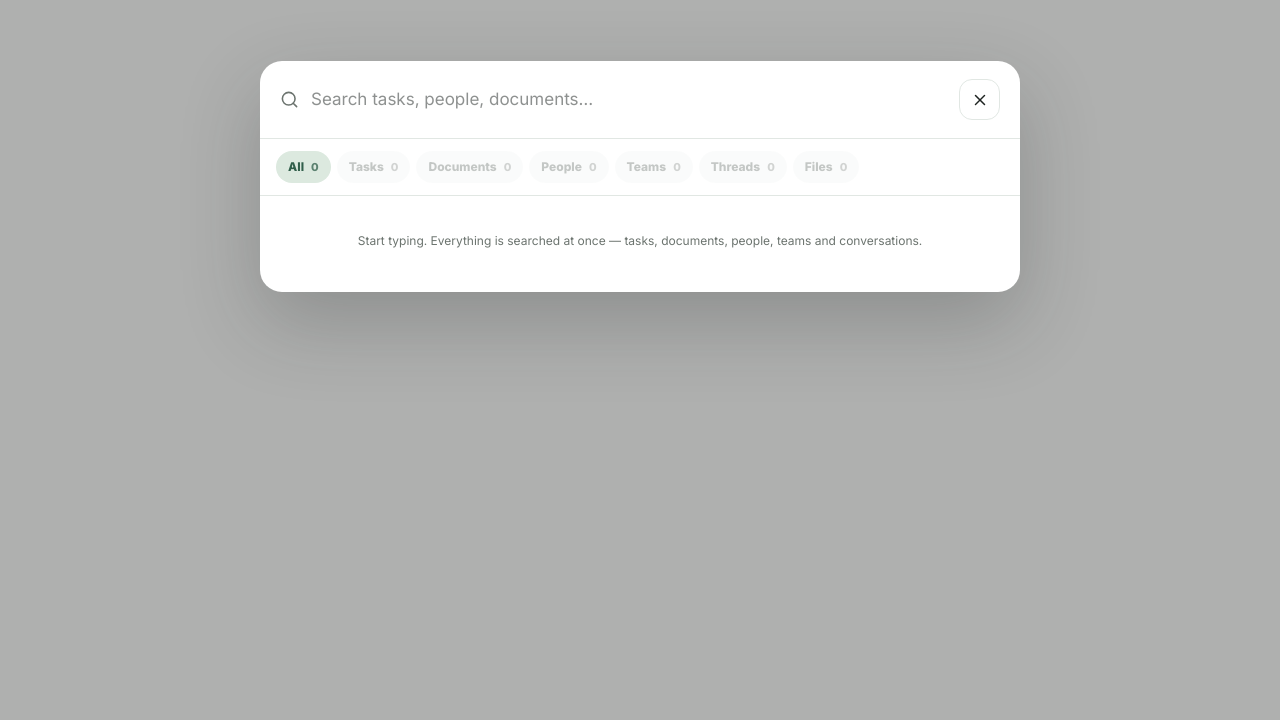
SearchOverlay › filters to one category when its tab is chosen
Type "a" into the field named "Search jarins" at (629, 100), box [311,87,947,112]
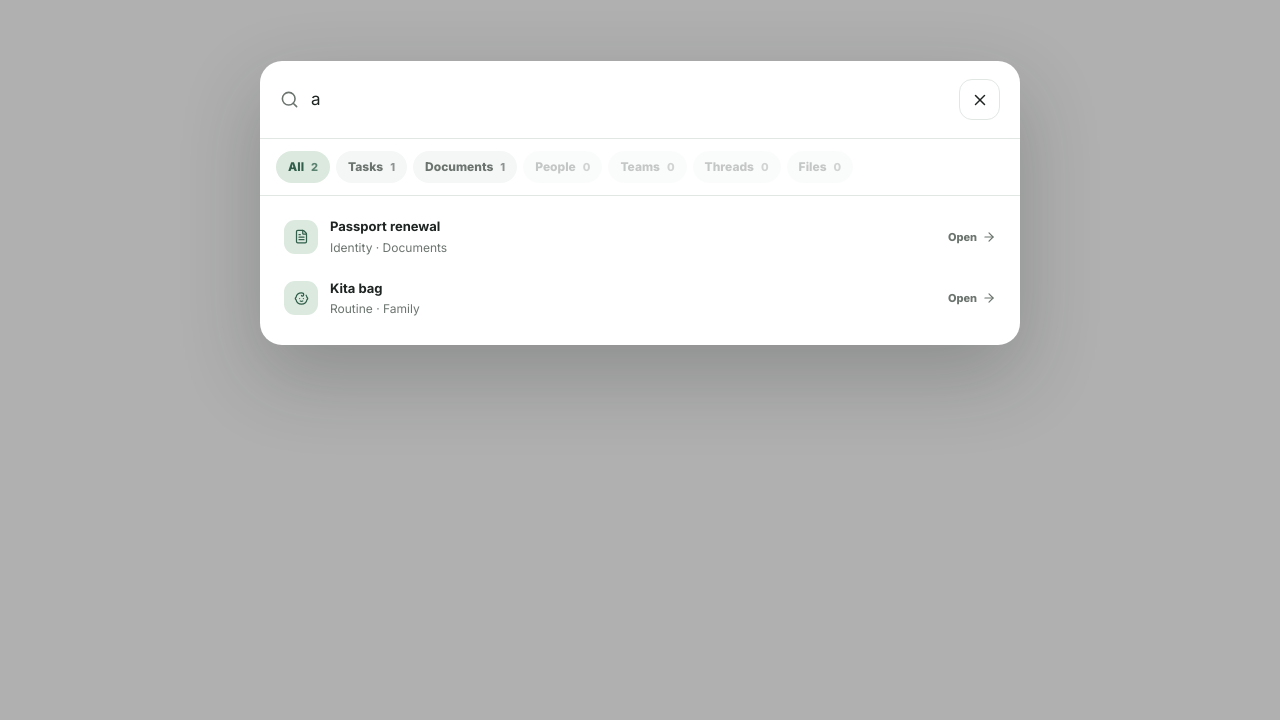
Expected: the text "Kita bag" is shown, [330,280,382,296]
Expected: the text "Passport renewal" is shown, [330,218,440,234]
Click the button "Tasks 1" at (372, 167), box [336,151,407,183]
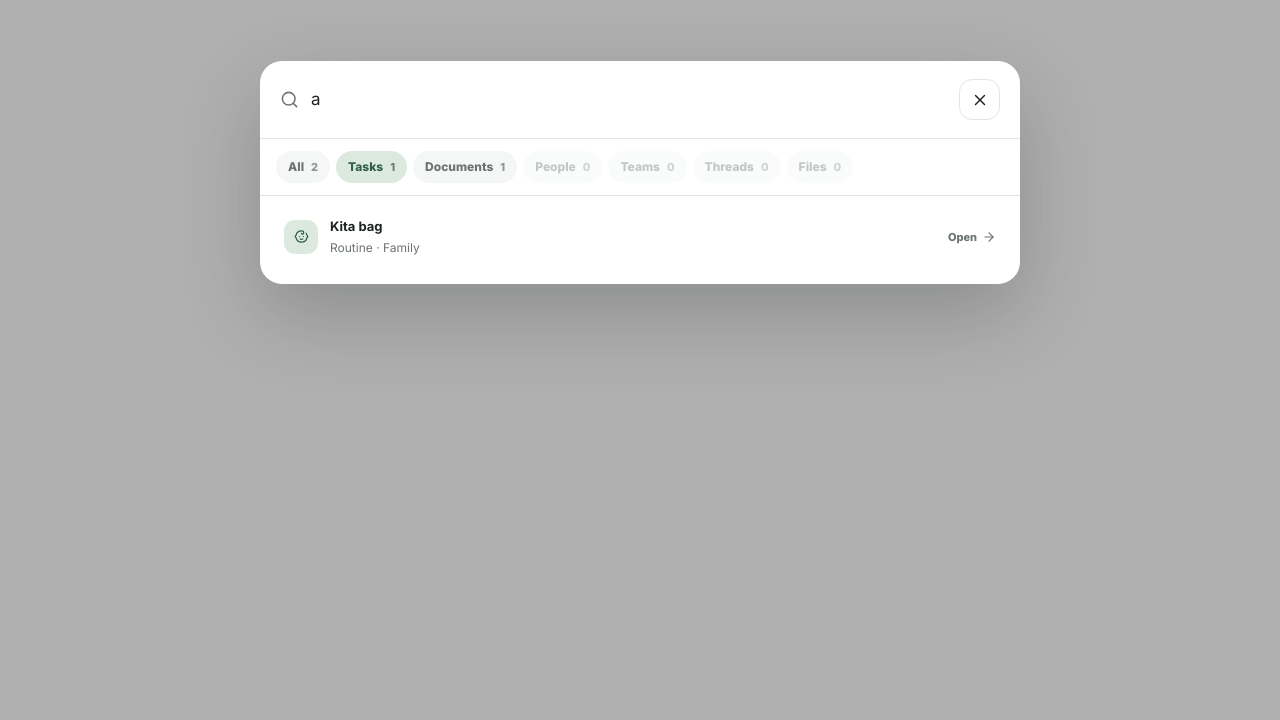
Expected: the text "Kita bag" is shown, [330,218,382,234]
Expected: the link "Passport renewal" is gone
